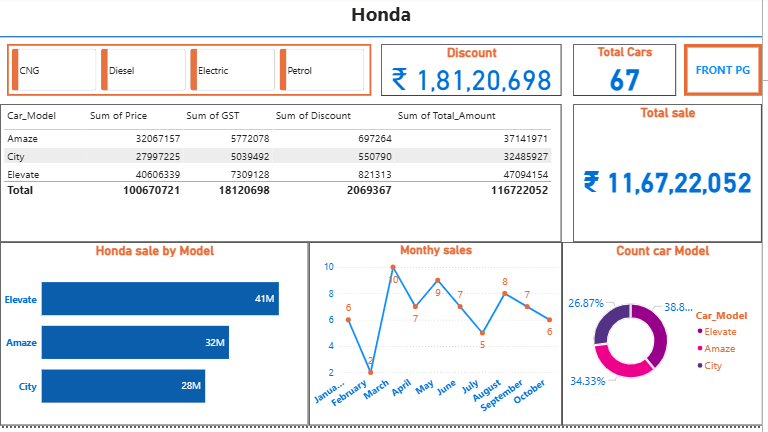

Layout of this report page (visuals, bound fields, positions):
{"tool":"powerbi","page":{"name":"Page 1","canvas":[1280,720],"ordinal":7},"visuals":[{"type":"textbox","box":[0,0,1280,65],"z":0},{"type":"barChart","title":"Honda sale by Model","fields":{"Category":["car_sales_2025_india_updated.Car_Model"],"Y":["Sum(car_sales_2025_india_updated.Price)"]},"box":[0,411.7,518.3,308.3],"z":1000},{"type":"donutChart","title":"Count car Model","fields":{"Category":["car_sales_2025_india_updated.Car_Model"],"Y":["CountNonNull(car_sales_2025_india_updated.Price)"]},"box":[943.3,411.7,336.7,308.3],"z":2000},{"type":"lineChart","title":"Monthy sales","fields":{"Category":["car_sales_2025_india_updated.Delivery_Date.Variation.Date Hierarchy.Month"],"Y":["Count(car_sales_2025_india_updated.Price)"]},"box":[518.3,411.7,425,308.3],"z":3000},{"type":"tableEx","fields":{"Values":["car_sales_2025_india_updated.Car_Model","Sum(car_sales_2025_india_updated.Price)","Sum(car_sales_2025_india_updated.GST)","Sum(car_sales_2025_india_updated.Discount)","Sum(car_sales_2025_india_updated.Total_Amount)"]},"box":[0,180,943.3,231.7],"z":4000},{"type":"shape","box":[0,10,1280,113.3],"z":5000},{"type":"card","title":"Total Cars","fields":{"Values":["CountNonNull(car_sales_2025_india_updated.Car_Model)"]},"box":[962.5,79,173,87.3],"z":6000},{"type":"card","title":"Discount","fields":{"Values":["Sum(car_sales_2025_india_updated.GST)"]},"box":[640,78.3,303.3,86.7],"z":7000},{"type":"card","title":"Total sale","fields":{"Values":["Sum(car_sales_2025_india_updated.Total_Amount)"]},"box":[962.5,179.7,317.5,231.8],"z":9000},{"type":"advancedSlicerVisual","fields":{"Values":["car_sales_2025_india_updated.Fuel_Type"]},"box":[11.7,78.3,611.7,86.7],"z":10000},{"type":"actionButton","box":[1149,79,131,87.3],"z":10001}]}

Visuals, with their boxes in screenshot pixels (x1, y1, x2, y2), scaled from the page's 1280x720 canvas onto the 768x432 screenshot:
textbox: <region>0, 0, 767, 39</region>
"Honda sale by Model" barChart: <region>0, 247, 311, 431</region>
"Count car Model" donutChart: <region>566, 247, 767, 431</region>
"Monthy sales" lineChart: <region>311, 247, 566, 431</region>
tableEx - car_sales_2025_india_updated.Car_Model x Sum(car_sales_2025_india_updated.Price): <region>0, 108, 566, 247</region>
shape: <region>0, 6, 767, 74</region>
"Total Cars" card: <region>578, 47, 681, 100</region>
"Discount" card: <region>384, 47, 566, 99</region>
"Total sale" card: <region>578, 108, 767, 247</region>
advancedSlicerVisual - car_sales_2025_india_updated.Fuel_Type: <region>7, 47, 374, 99</region>
actionButton: <region>689, 47, 767, 100</region>
